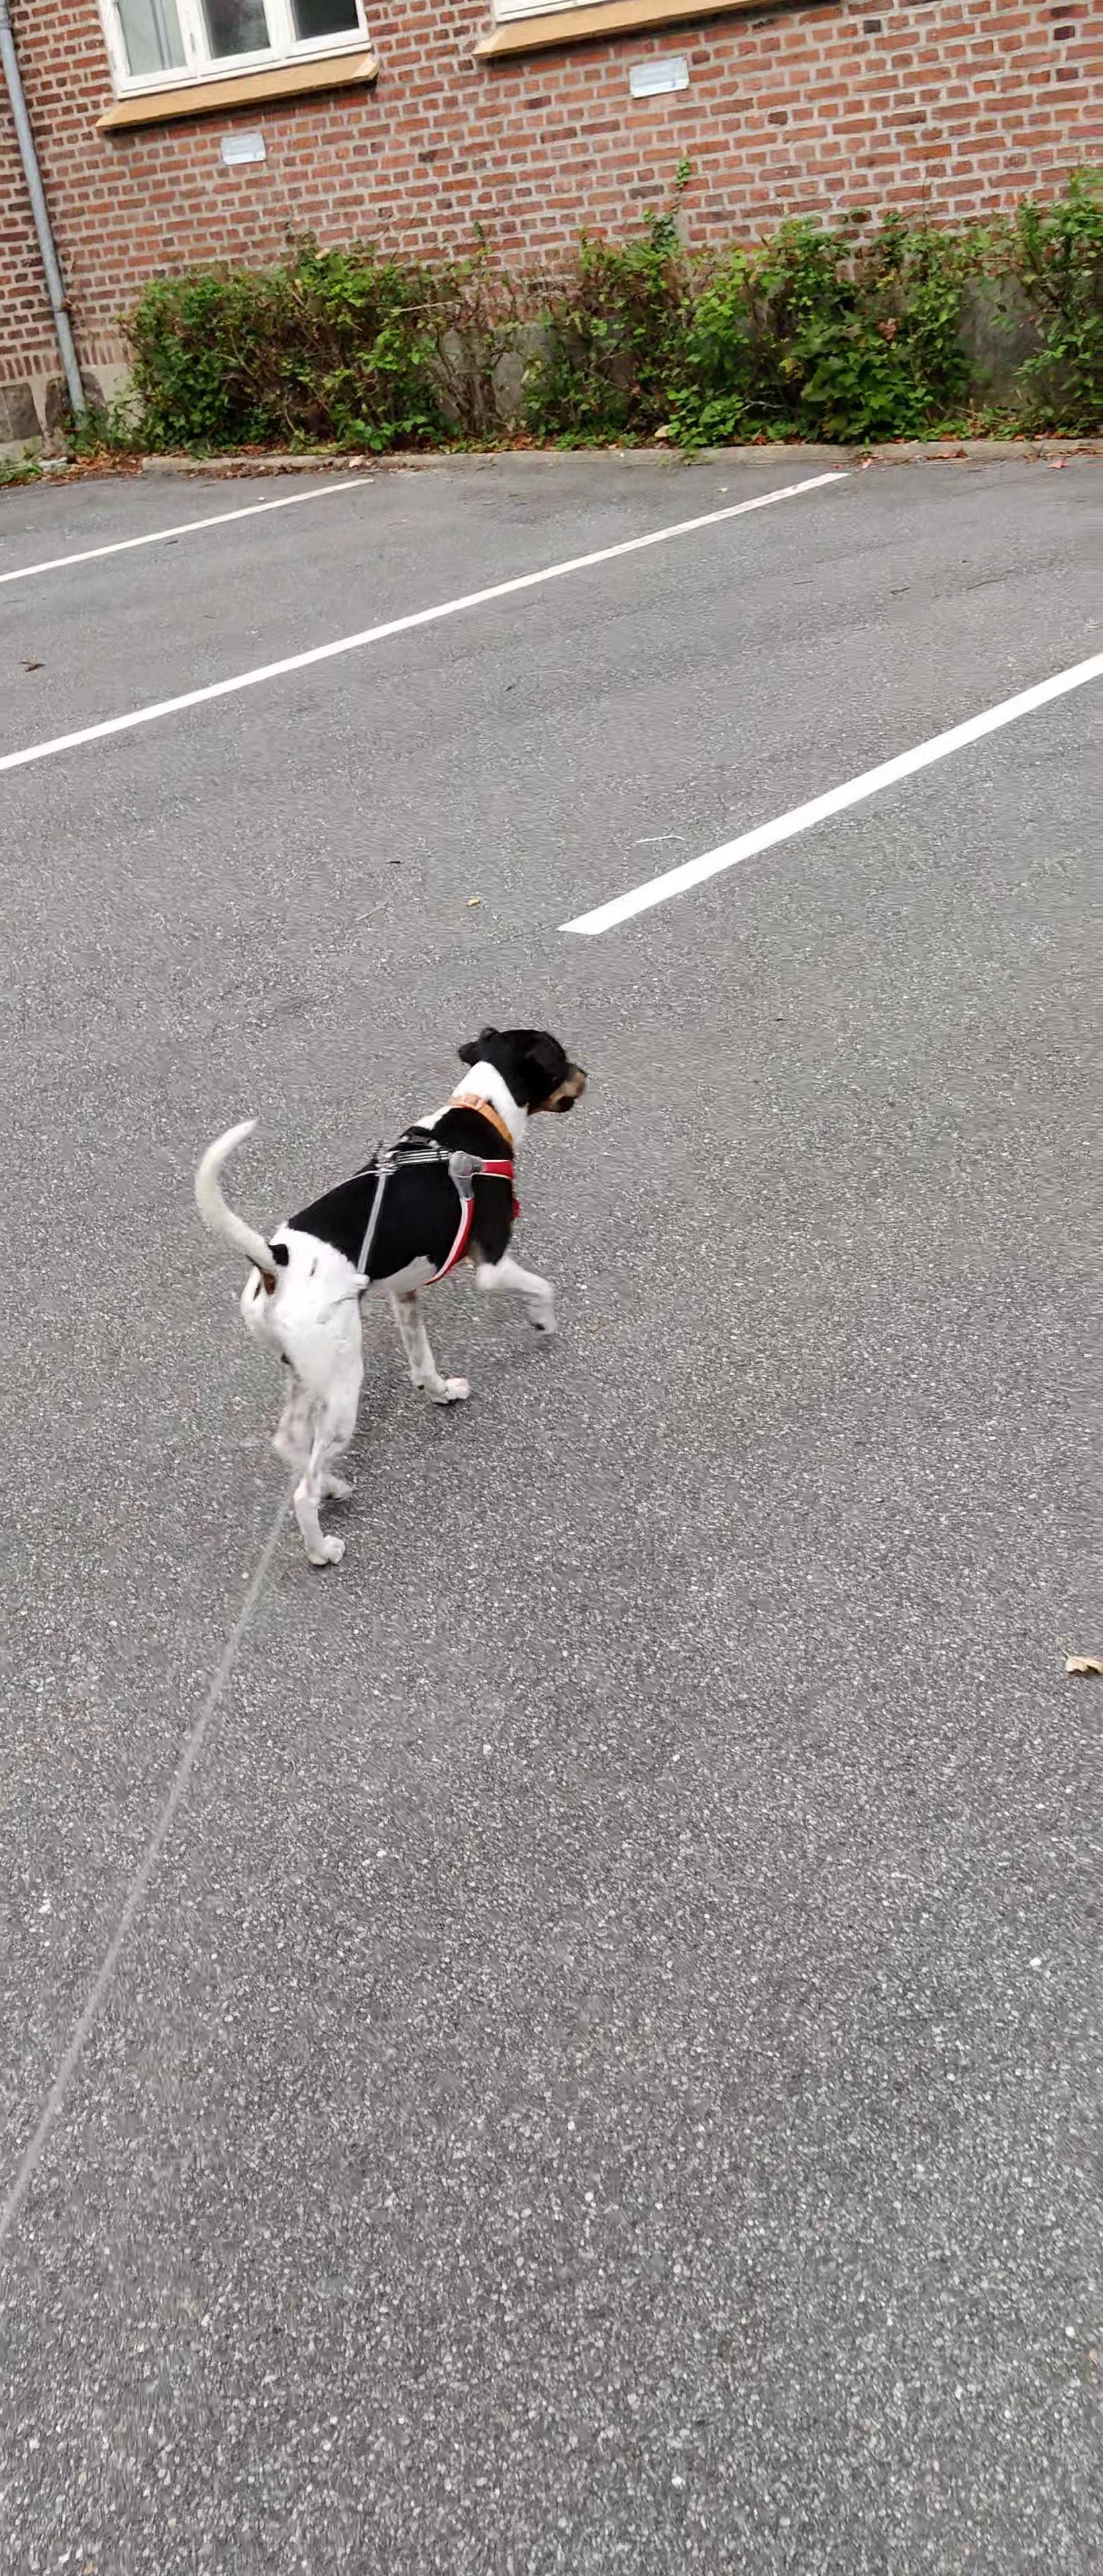Dog: (178, 994, 611, 1595)
